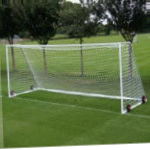goals: (4, 42, 146, 117)
